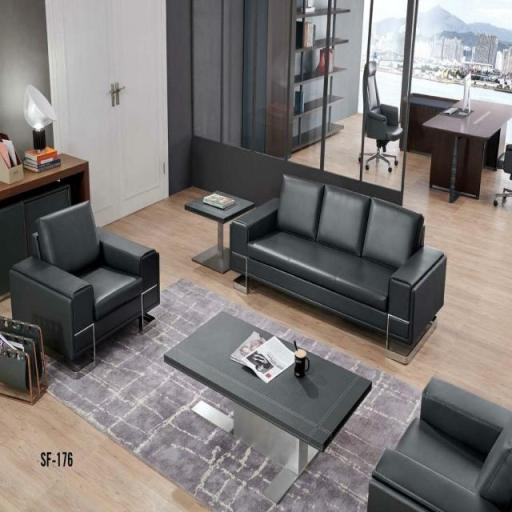sofa: (233, 151, 499, 356), (0, 189, 214, 422), (349, 366, 512, 512)
